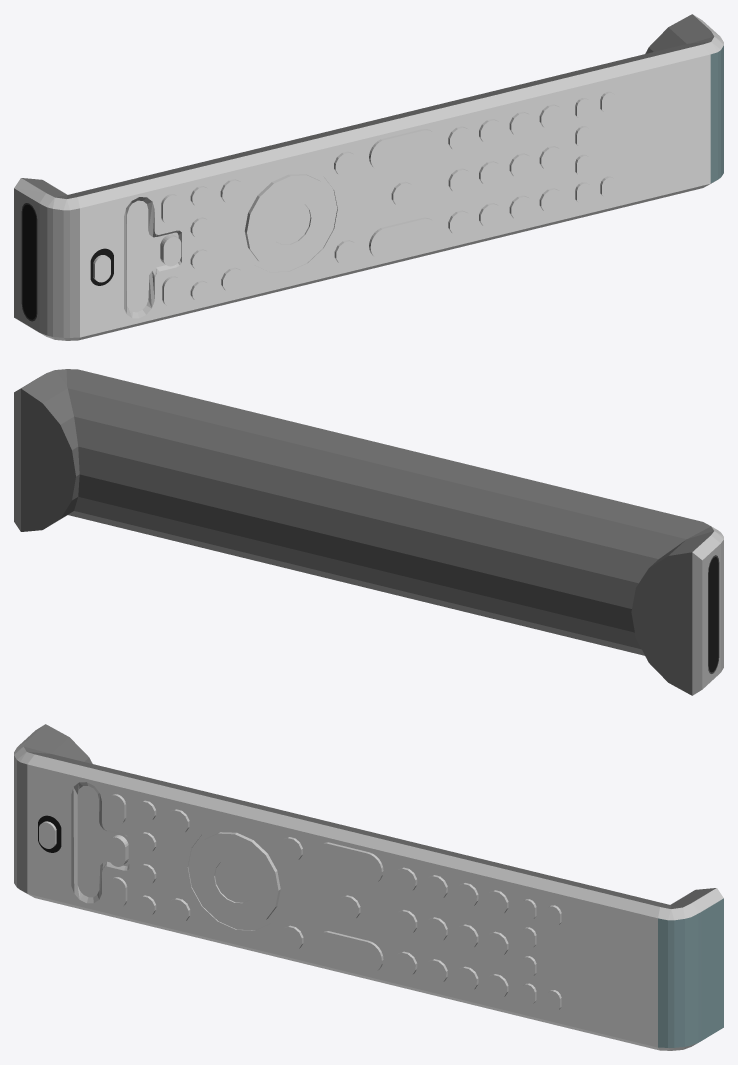
3 views of the same model, one above another, from view 1: azimuth 30°, elevation 25°; view 2: azimuth 150°, elevation 25°; view 3: azimuth 330°, elevation 25° (orthographic).
Visible parts, largest first — view 1: fernbedienung rc; view 2: fernbedienung rc; view 3: fernbedienung rc.
Boxes of the visible parts, x1,y1,x2,y2 form: fernbedienung rc: [14, 14, 723, 340]; fernbedienung rc: [14, 369, 723, 695]; fernbedienung rc: [14, 724, 723, 1050].
Bounding box in the file's own units: 9.28 × 1.85 × 1.01.
